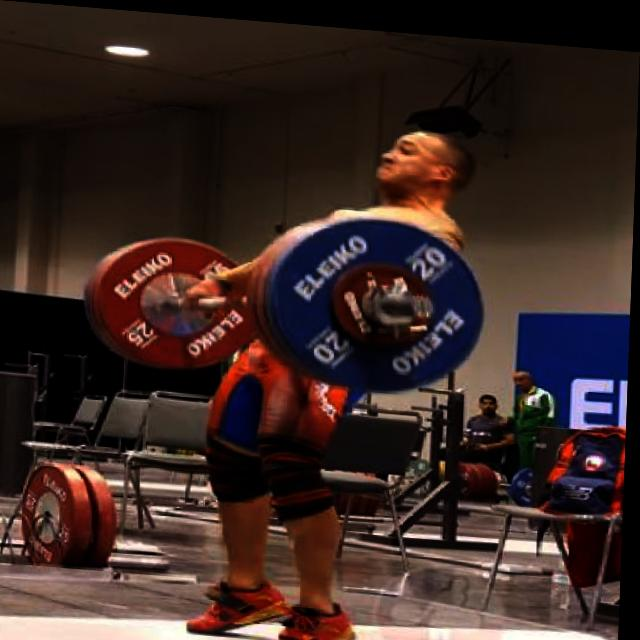barbell: (267, 200, 493, 399)
